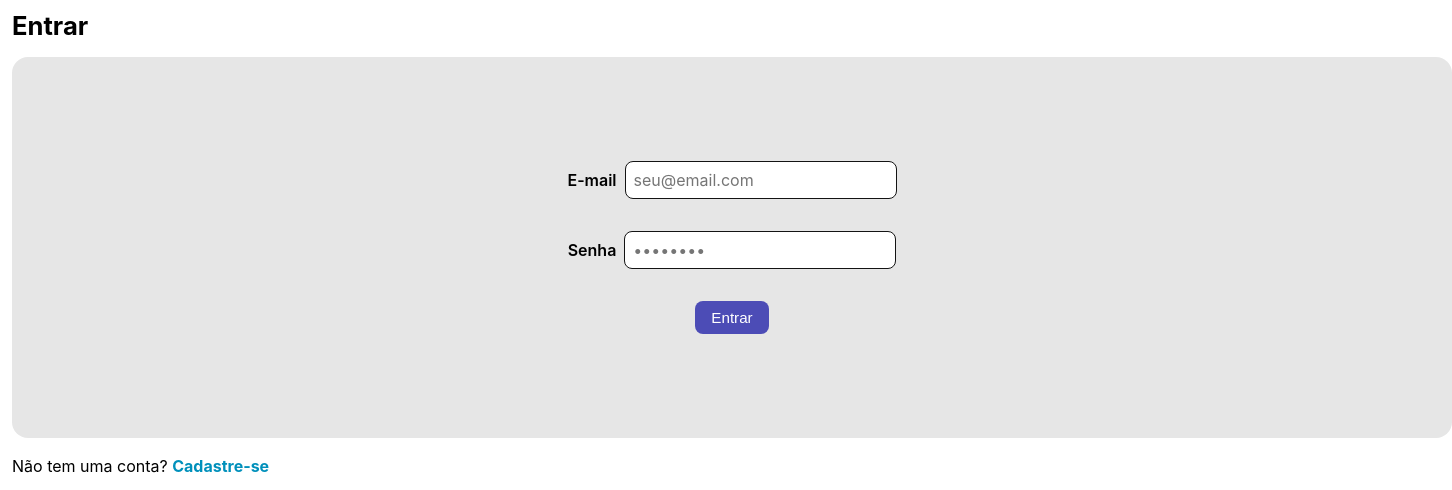
it: Login Page (Unit Tests) › Deve exibir mensagens de erro ao submeter o formulário vazio
Click the button "Entrar". click: (732, 318)
box: [695,301,769,334]
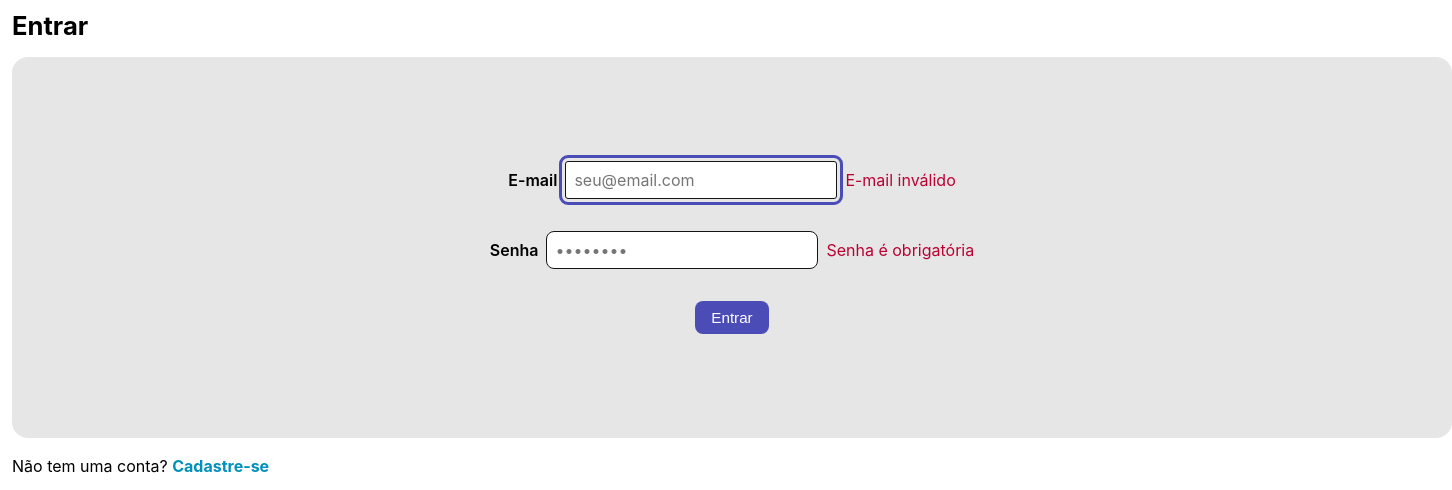
Expected: the text "E-mail inválido" is shown, [845,170,956,190]
Expected: the text "Senha é obrigatória" is shown, [826,240,974,260]
